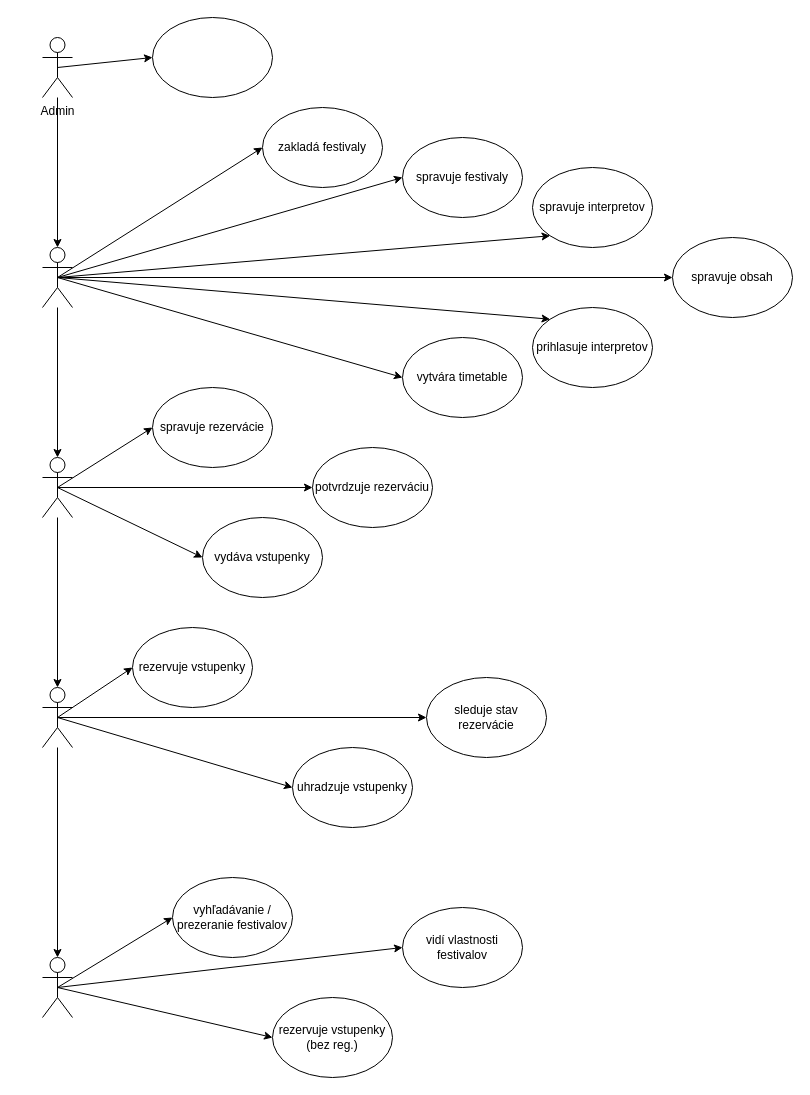
The diagram is 810 pixels wide and 1095 high, and some of its shapes have lost their labels. Each missing label, with the box of its shape:
Divák: (42, 686, 72, 748)
Neregistrovaný: (42, 956, 72, 1018)
Pokladník: (42, 456, 72, 518)
spravuje užívateľov: (152, 16, 272, 98)
Usporiadateľ: (42, 246, 72, 308)
